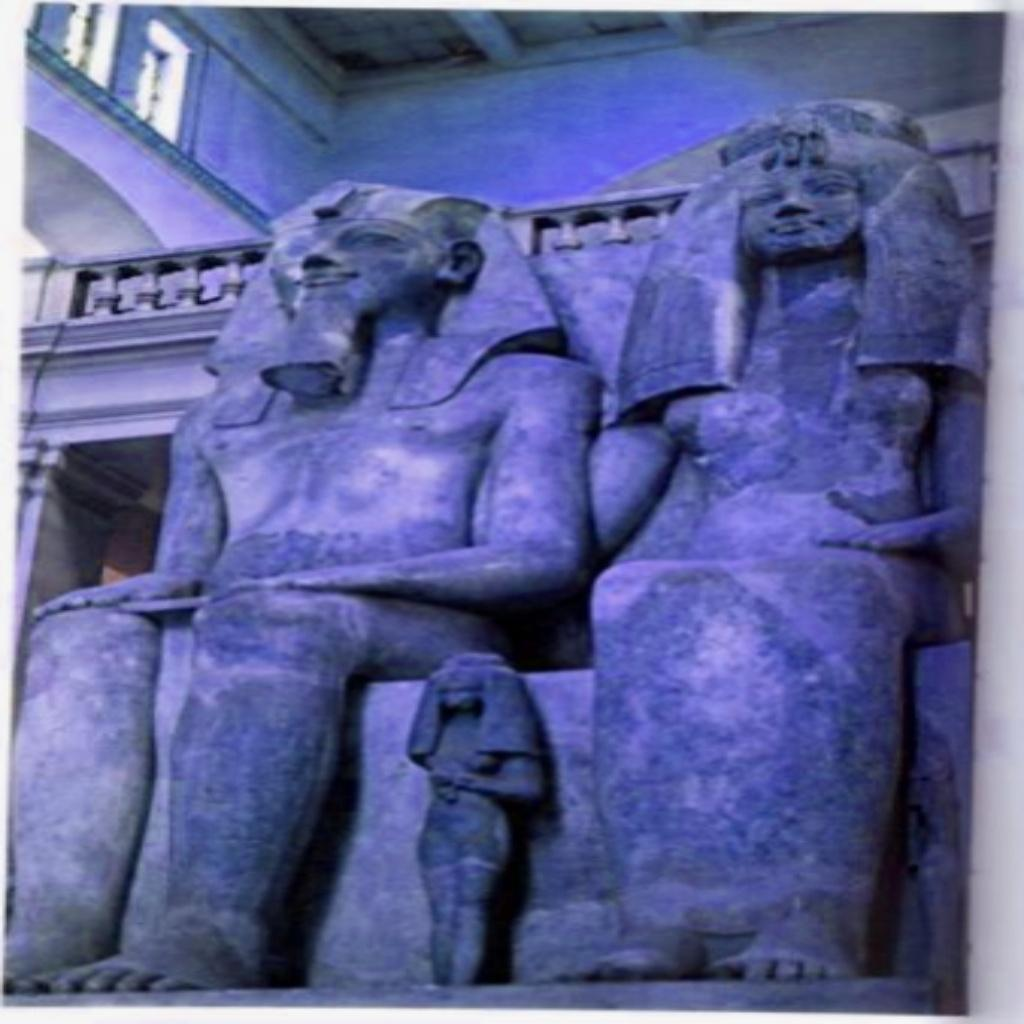Amenhotep III and Tiye: (6, 100, 1021, 994)
